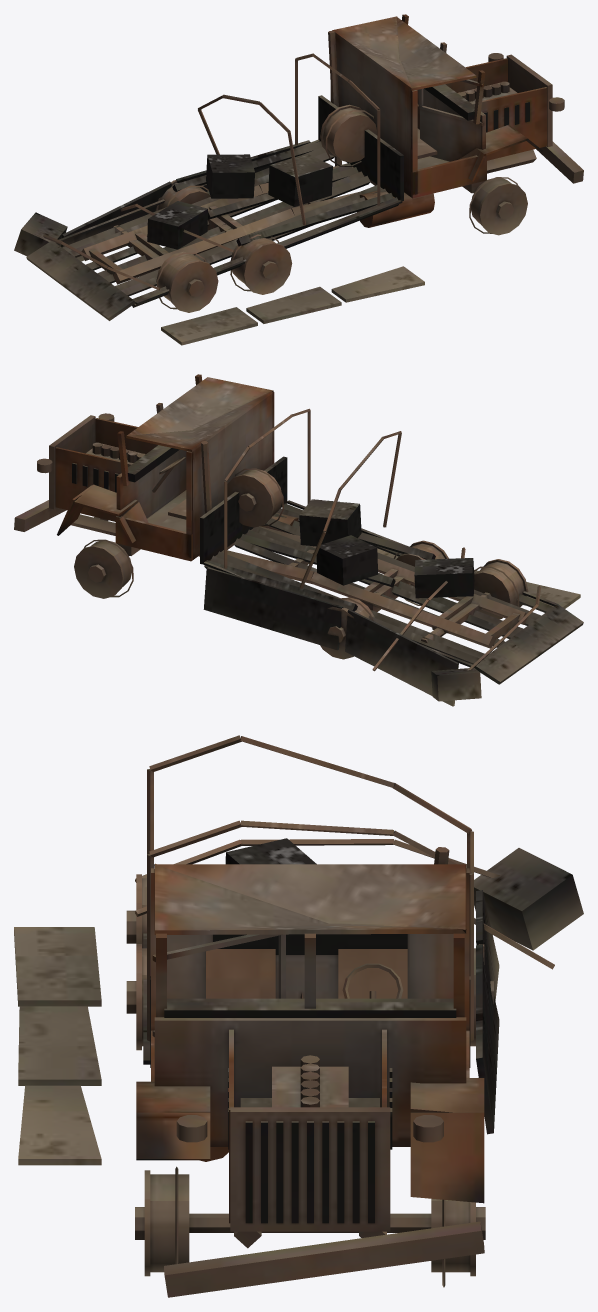
The model's file is b07_wreck_truck.glb.
3 renders of one model, top to bottom at view 1: azimuth 30°, elevation 25°; view 2: azimuth 150°, elevation 25°; view 3: azimuth 270°, elevation 25°, orthographic. The views are drawn at different scales.
Parts seen in each view (by area): view 1: b07_wreck_truck; view 2: b07_wreck_truck; view 3: b07_wreck_truck.
Boxes of the visible parts, x1,y1,x2,y2 form: b07_wreck_truck: (14,14,583,345); b07_wreck_truck: (14,374,583,706); b07_wreck_truck: (14,735,583,1297).
Bounding box in the file's own units: 1 × 0.3723 × 0.529.
1 material, 1 textured.
